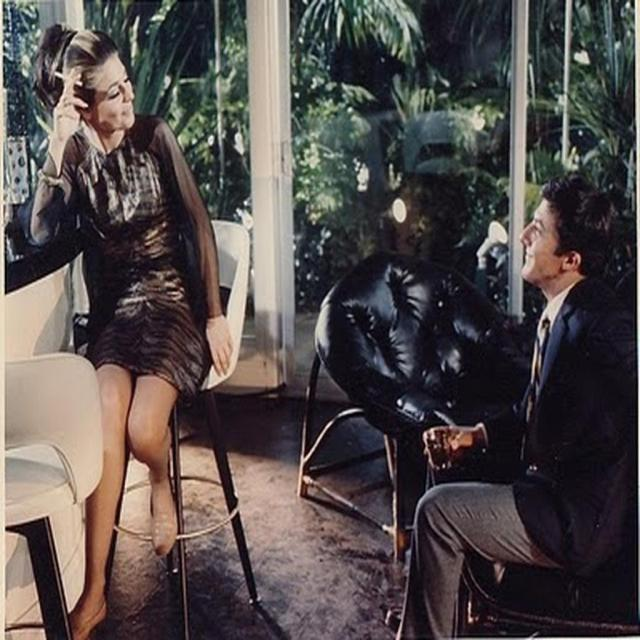smoking: (30, 23, 165, 190)
